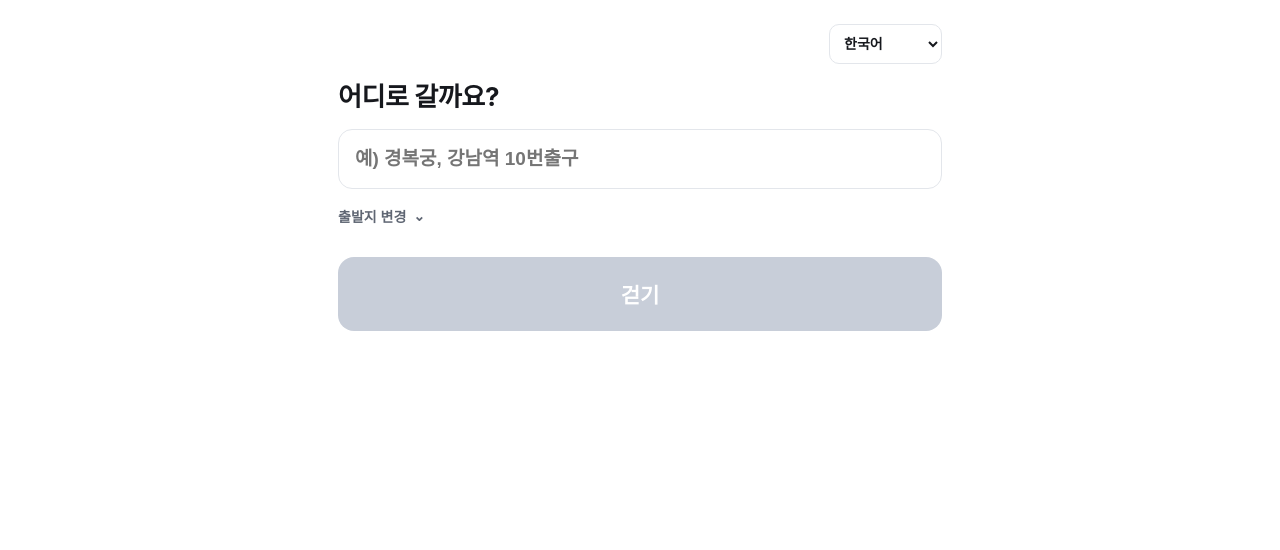
TEST I — 출발지 변경은 숨겨진 보조 기능이며 수동 위치는 미리보기 전용 › 수동 출발지 경로를 찾지만 GPS 조회와 실시간 추적은 하지 않는다
Step 1. Type "경복궁" into the search field named "목적지" → [640, 159], box [338,129,942,189]
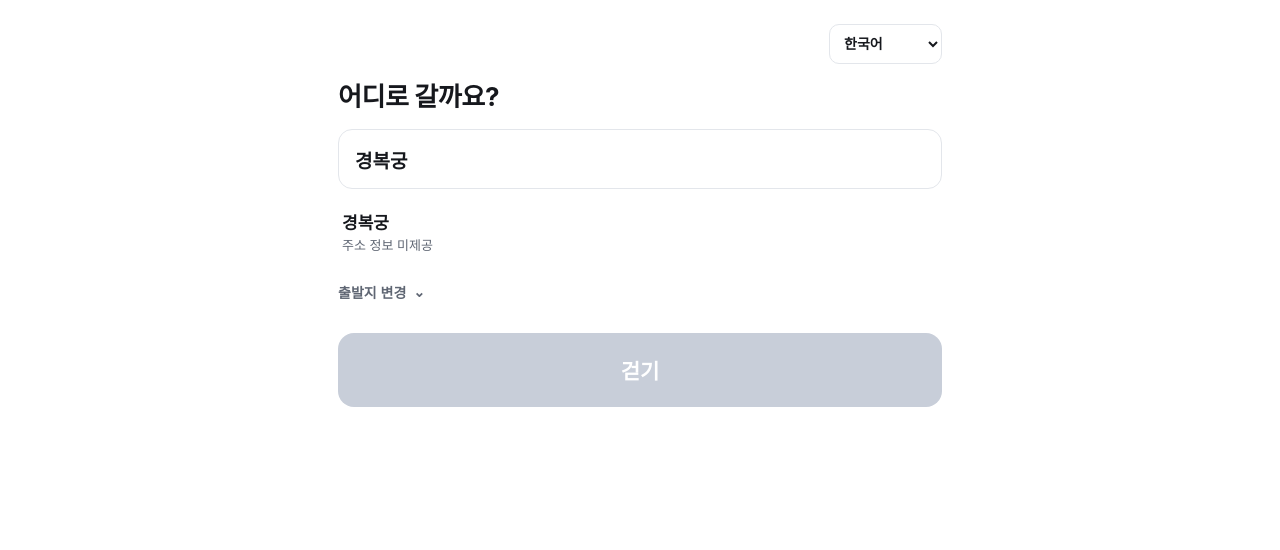
Step 2. Click the button "경복궁 주소 정보 미제공" → [365, 224], box [338,199,942,264]
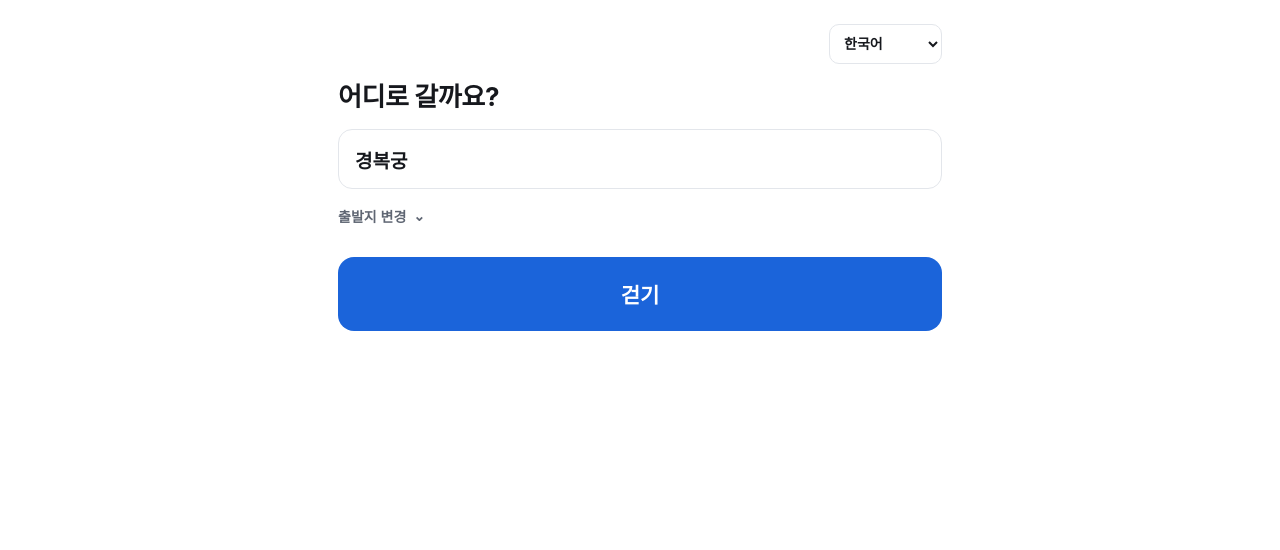
Step 3. Click the button "출발지 변경 ⌄" → [382, 216], box [338,195,425,237]
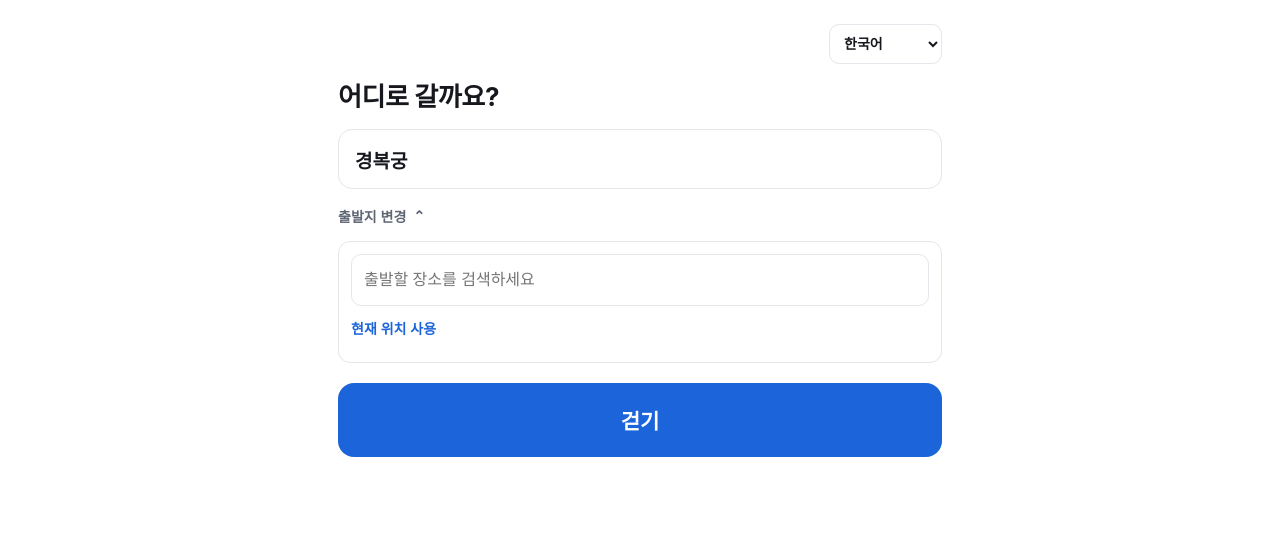
Step 4. Type "서울역" into the search field named "출발지" → [640, 280], box [351,254,929,306]
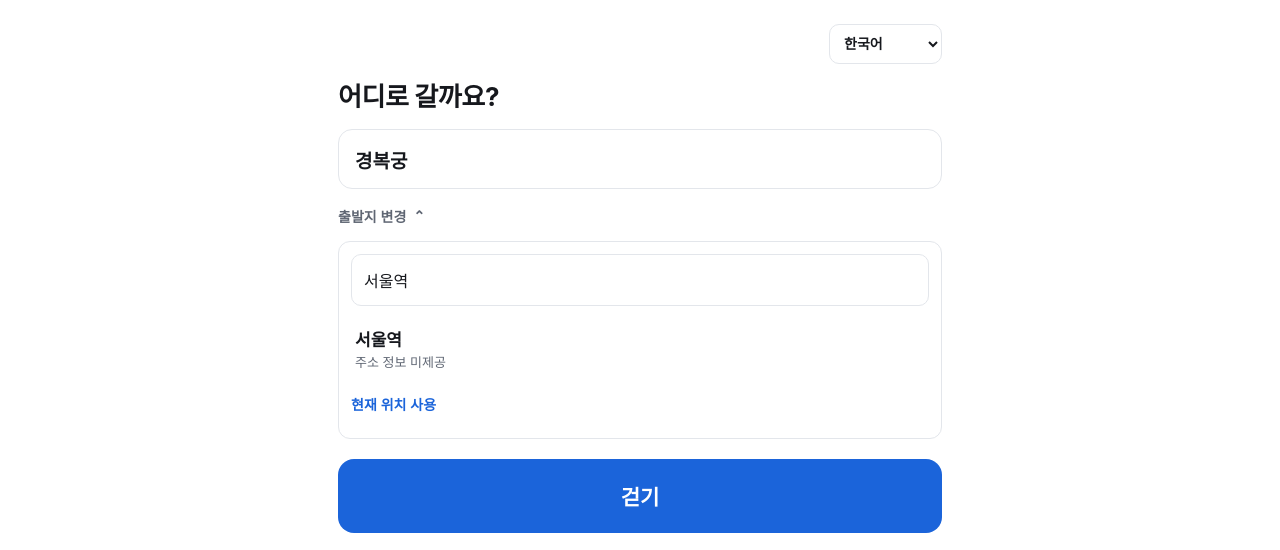
Step 5. Click the button "서울역 주소 정보 미제공" → [378, 340], box [351,316,929,382]
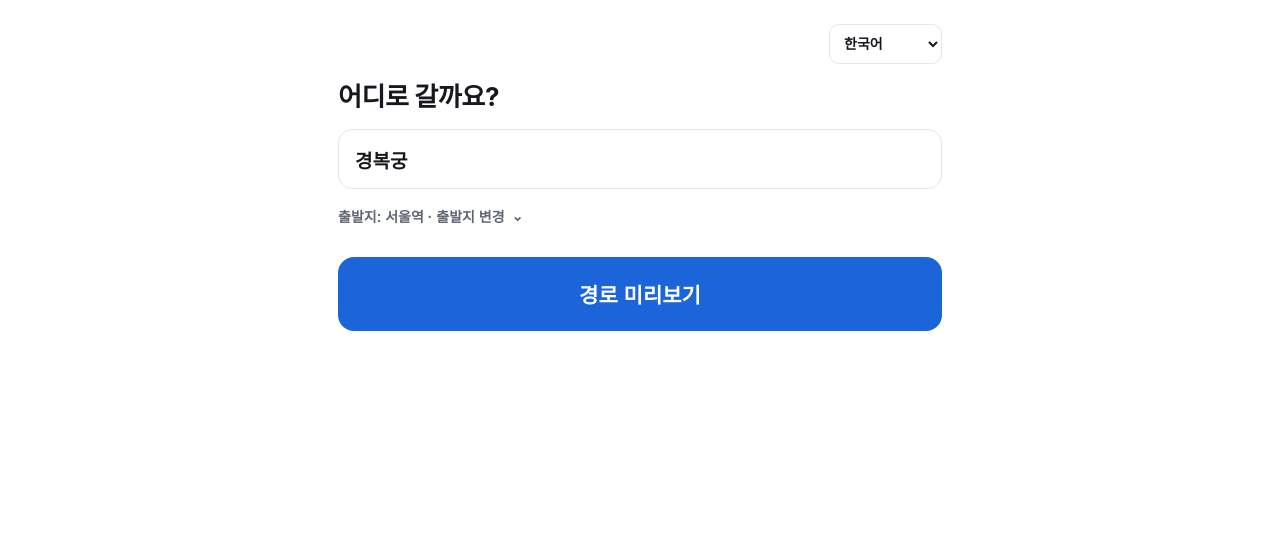
Step 6. Click the button "경로 미리보기" → [640, 294], box [338,257,942,331]
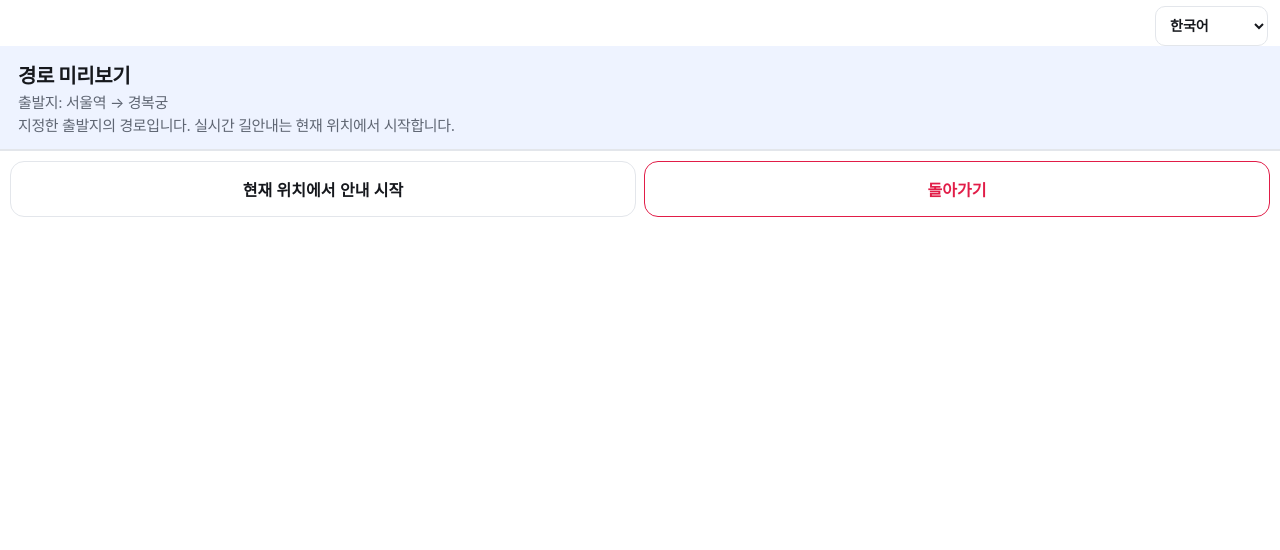
Now the text "지정한 출발지의 경로입니다. 실시간 길안내는 현재 위치에서 시작합니다." is shown, box [18,116,455,135]
